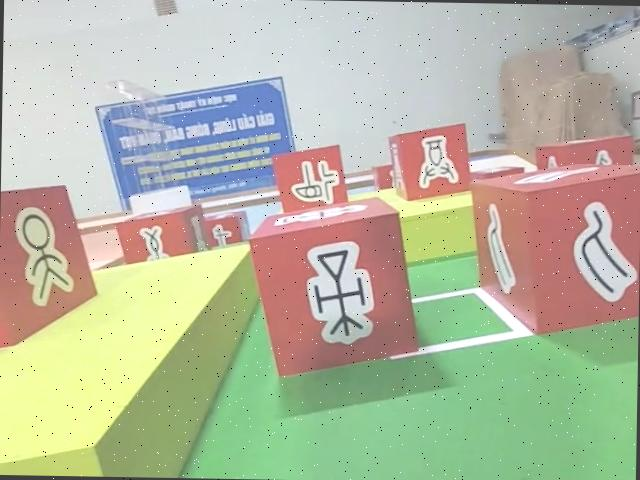R2 Real: (248, 195, 419, 384), (467, 160, 640, 339), (0, 184, 100, 349), (113, 198, 214, 269), (388, 121, 473, 203), (273, 143, 348, 217)
